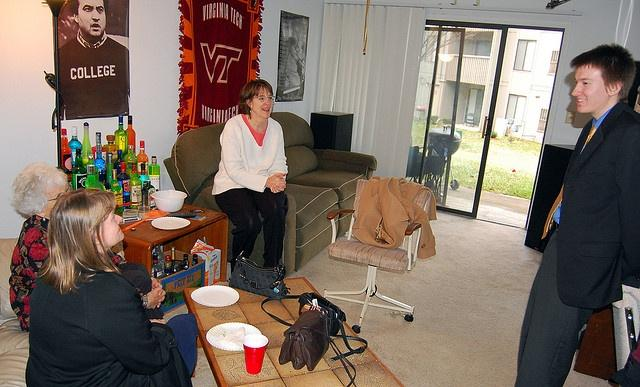Kursi: (324, 177, 433, 275)
Meja: (181, 274, 406, 386)
